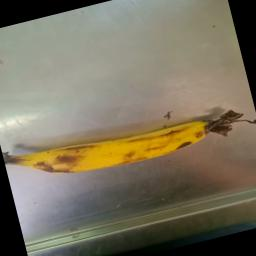Banana Overripe: (0, 64, 256, 222)
